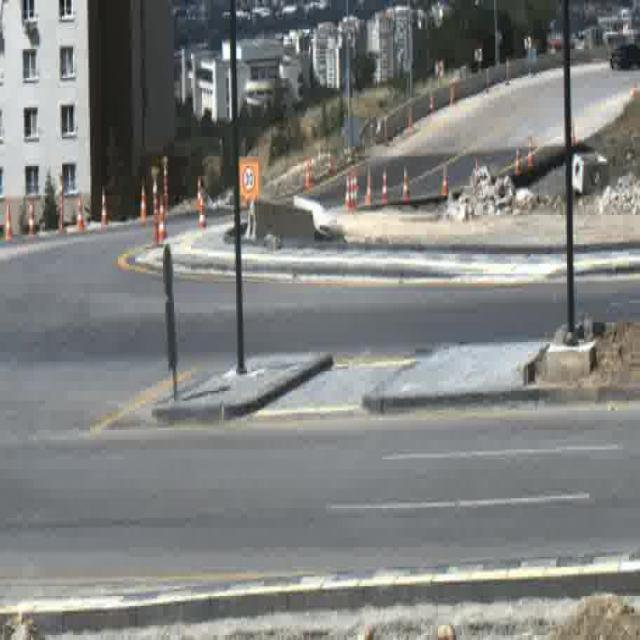Car: (611, 44, 638, 70)
